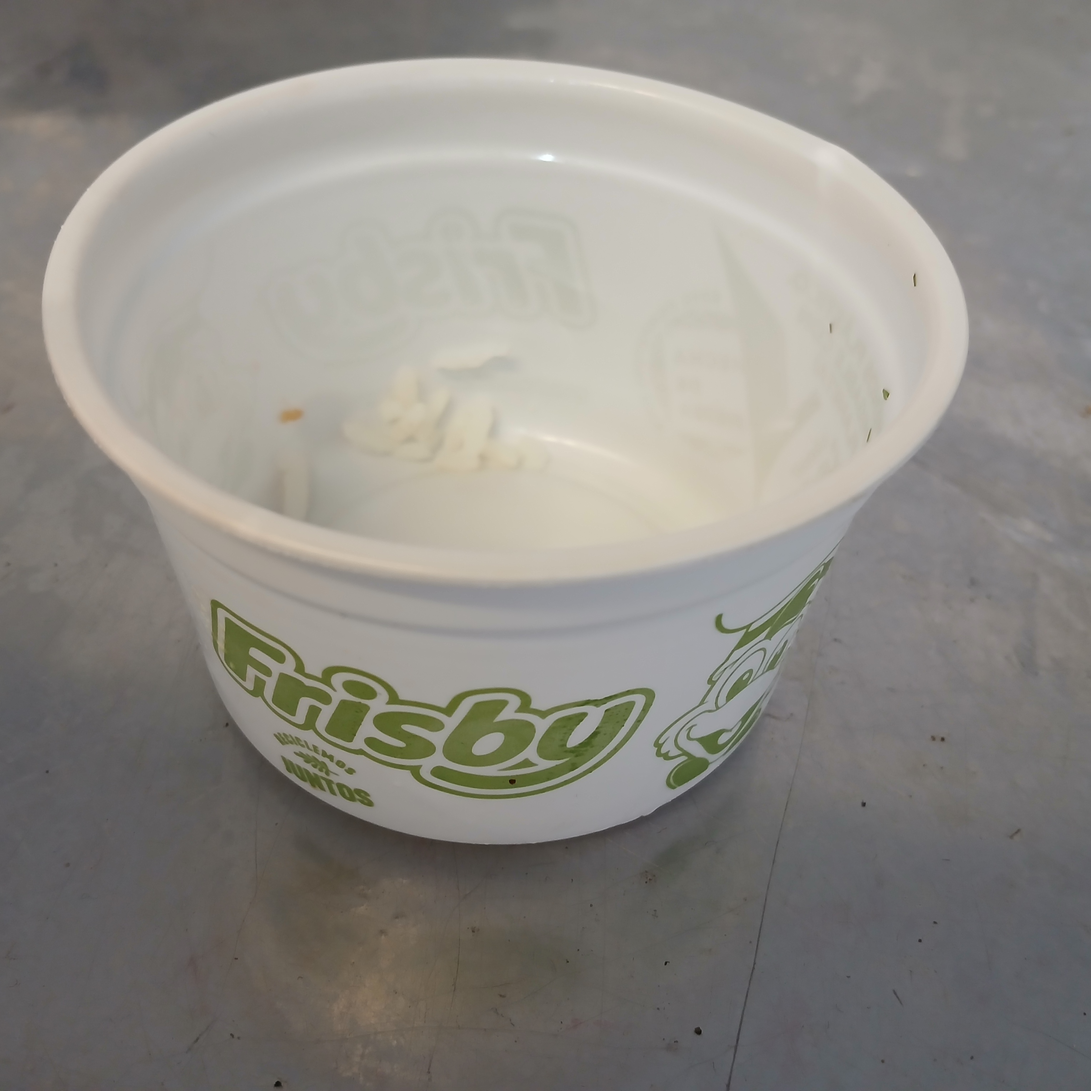Plastico: (41, 55, 972, 846)
